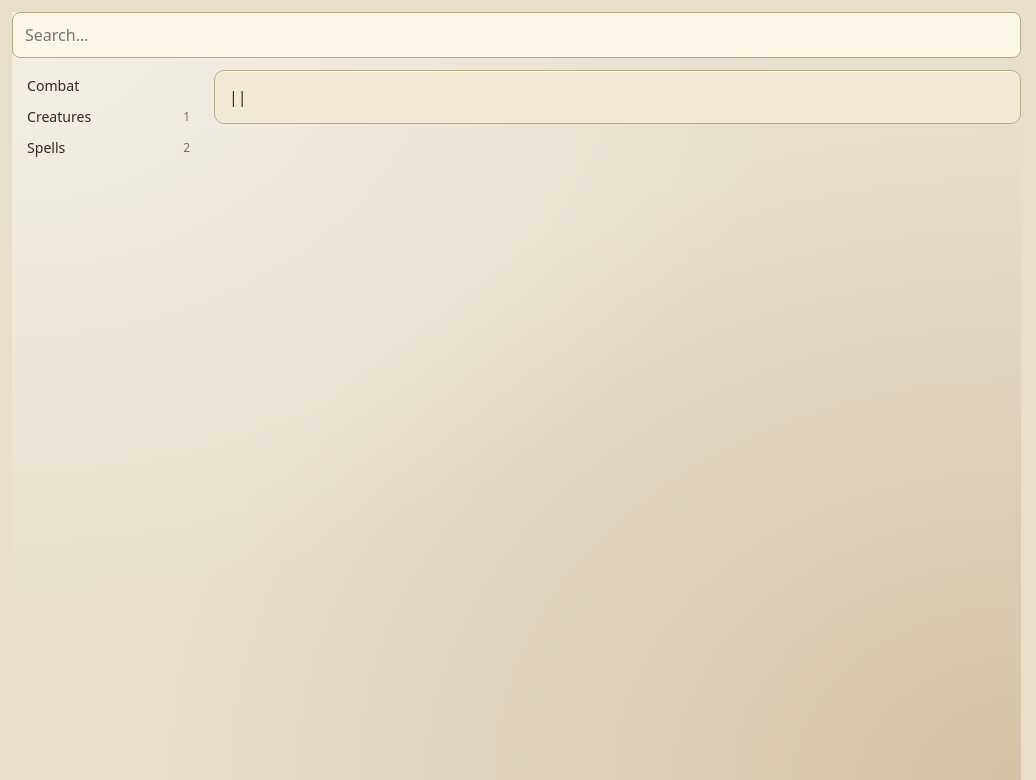
Test: the search of the Reference › says when nothing matches
Type "zzzz" into the search field with test id "ref-search" showing "Search…" at (516, 35), box [12,12,1021,58]
Wait 400 ms
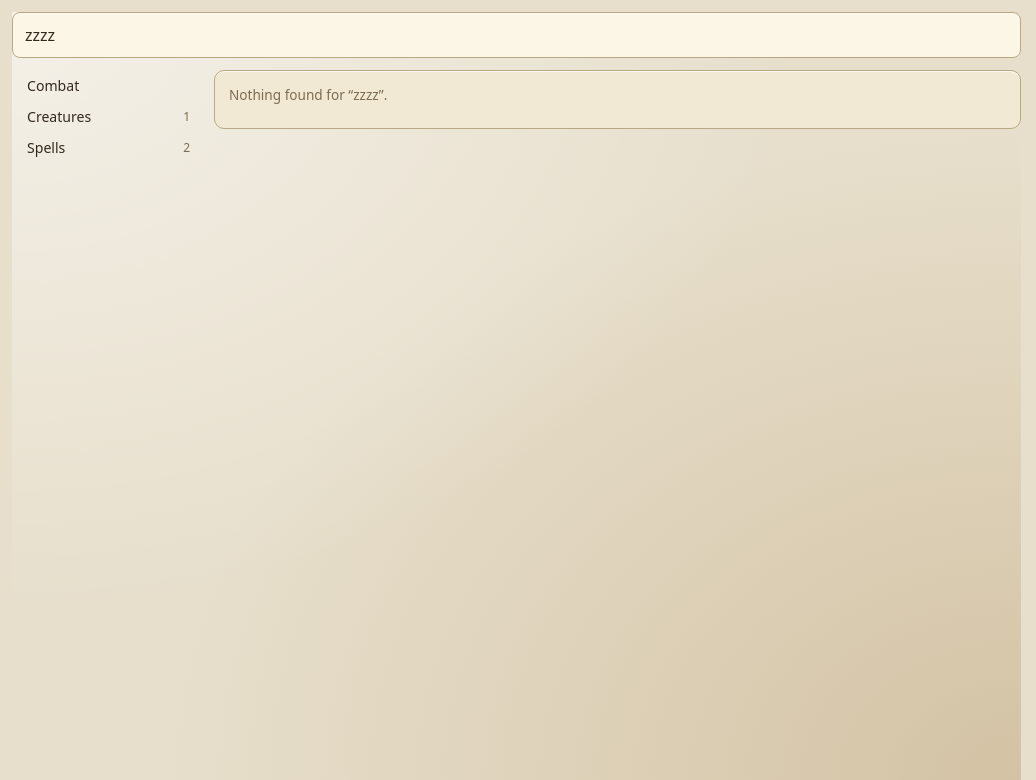
Result: the text with test id "ref-none" shows "zzzz" at [229,85,387,104]
